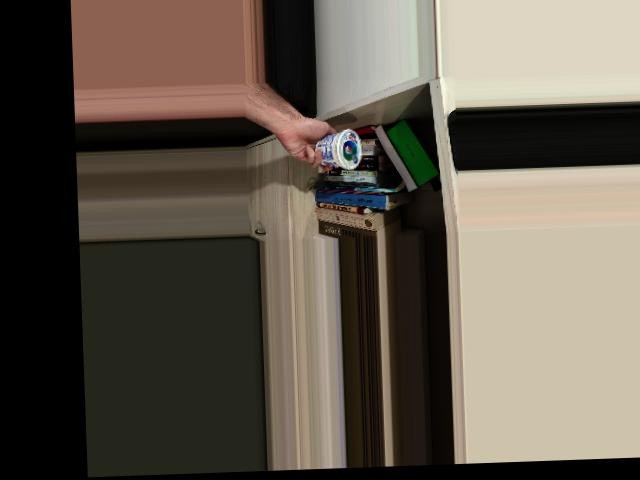cotage: (306, 130, 364, 171)
